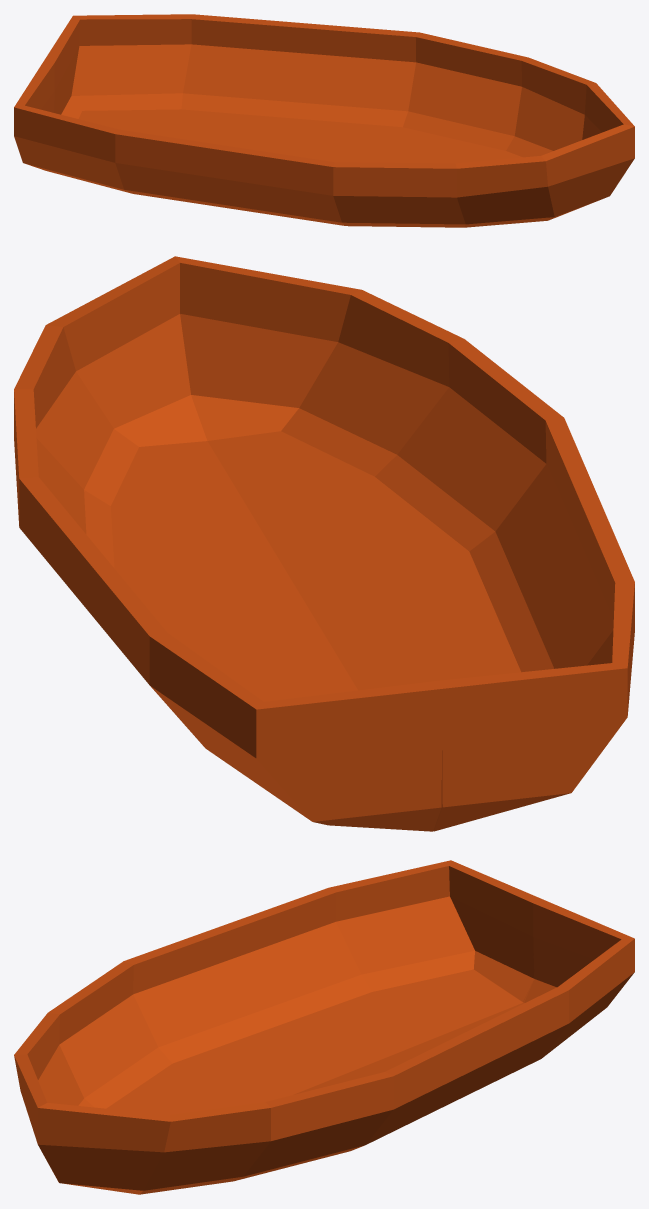
File: BodyBoat.obj
The picture shows the model from 3 angles, top to bottom: view 1: azimuth 30°, elevation 25°; view 2: azimuth 150°, elevation 25°; view 3: azimuth 270°, elevation 25°; orthographic projection. The views are drawn at different scales.
Visible parts, largest first — view 1: BodyBoat; view 2: BodyBoat; view 3: BodyBoat.
Boxes of the visible parts, x1=… form: BodyBoat: x1=14, y1=14, x2=634, y2=227; BodyBoat: x1=14, y1=256, x2=634, y2=831; BodyBoat: x1=14, y1=860, x2=634, y2=1194.
Size of the model in its own units: 3.61 by 0.7142 by 3.62.
